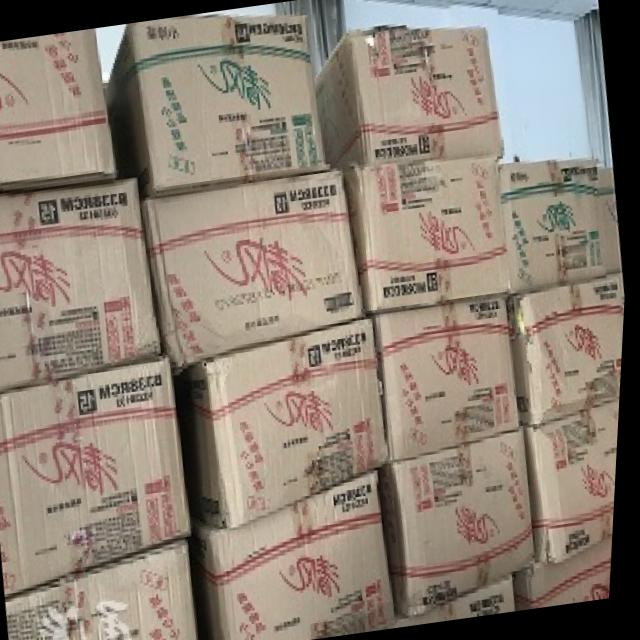box: (142, 165, 368, 375), (0, 358, 198, 597), (188, 315, 396, 528), (107, 14, 328, 199), (0, 181, 166, 392), (204, 471, 402, 640), (382, 427, 542, 616), (316, 25, 506, 167), (345, 154, 513, 312), (378, 292, 527, 461), (510, 268, 628, 427), (0, 30, 117, 190), (14, 542, 204, 640), (501, 156, 625, 297), (530, 396, 624, 563), (519, 535, 618, 609), (387, 576, 522, 627)
